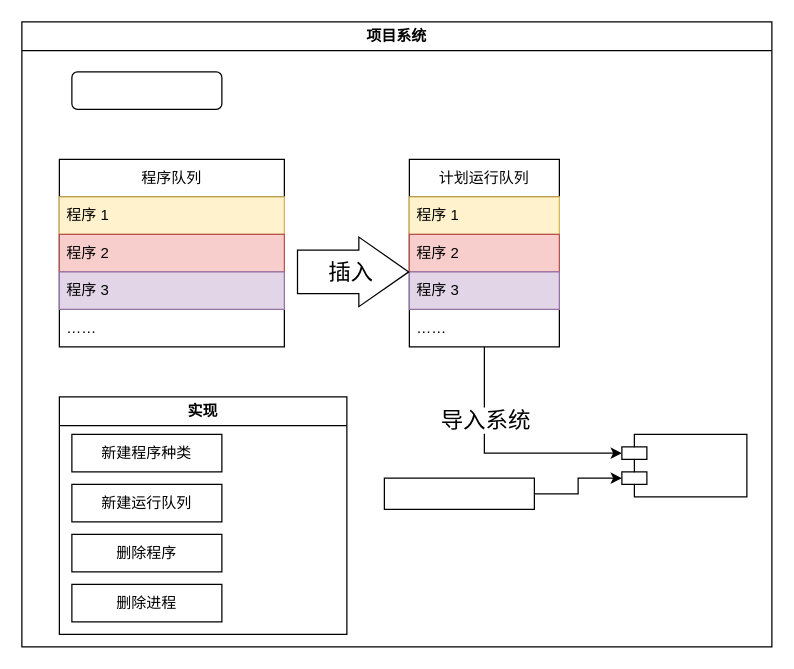
Image size: 794x669. Some labels were removed from this diagram. The shapes that lost their labels are listed below. From the top down, each one's centre as x and y in pixels, then its label:
(x=146, y=90): 可以创建自定义程序
(x=684, y=465): 进程系统
(x=458, y=493): 是否为时间片流转
